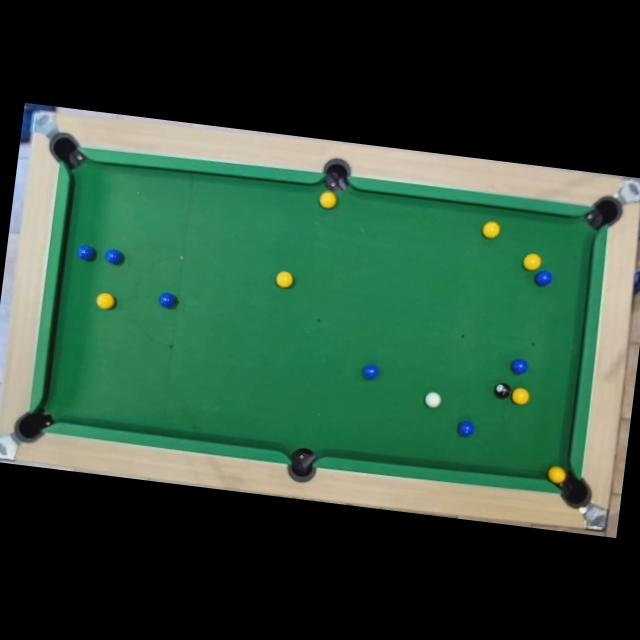Ball: (95, 292, 116, 310), (360, 362, 380, 380), (510, 387, 530, 405), (480, 221, 500, 239), (274, 270, 294, 288), (158, 292, 178, 310), (508, 358, 528, 375), (534, 269, 552, 287), (522, 254, 540, 272), (104, 248, 122, 266), (318, 191, 336, 209), (547, 466, 565, 484), (492, 382, 510, 399), (456, 421, 474, 438), (423, 391, 441, 408), (78, 244, 96, 260)
